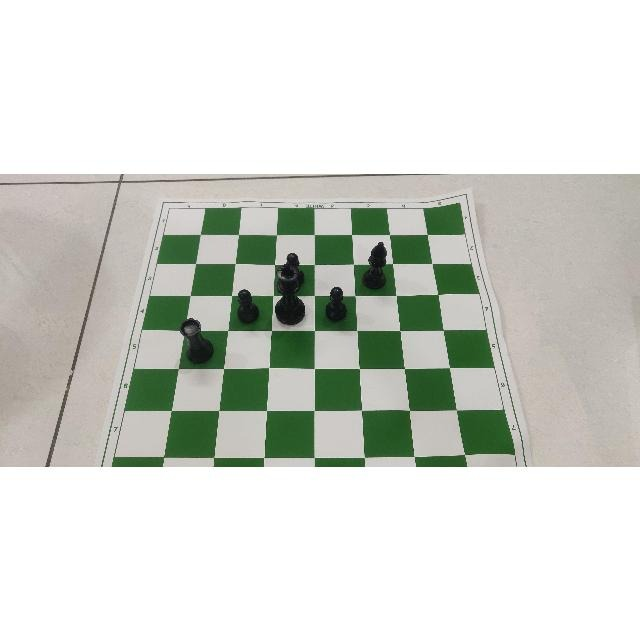black-bishop: (361, 241, 388, 290)
black-king: (273, 263, 306, 325)
black-pawn: (236, 288, 260, 324), (324, 286, 348, 322), (285, 250, 305, 285)
black-rook: (178, 316, 214, 363)
